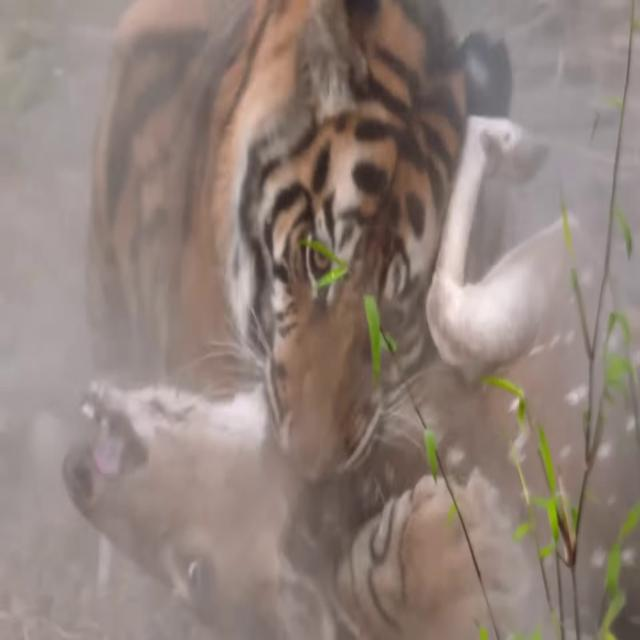tiger: (92, 0, 464, 483)
